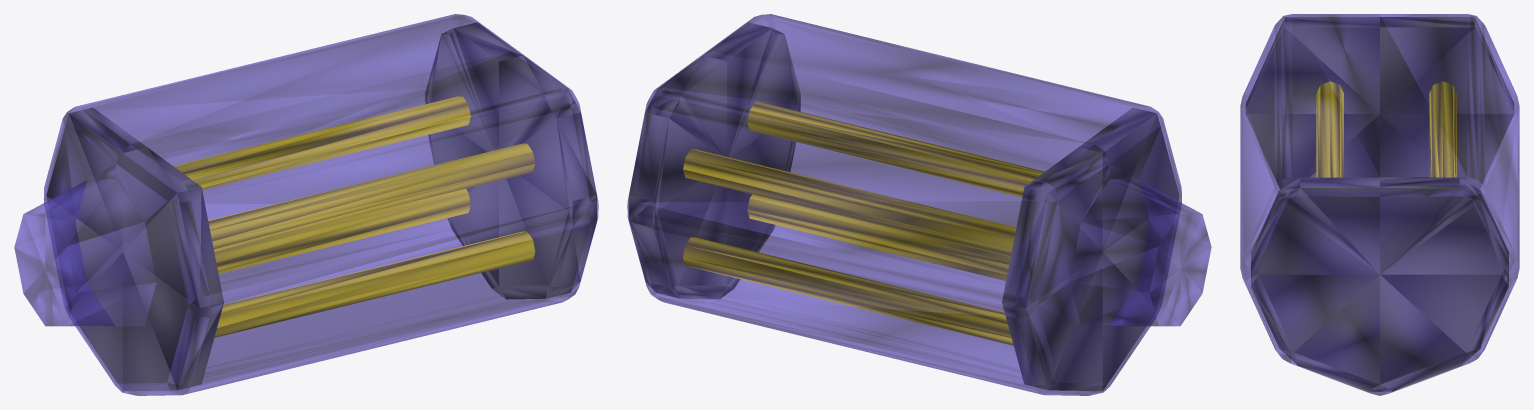
Rendered from destroyable_1x05y1z_changedmats3.fbx.
The picture shows the model from 3 angles, left to right: view 1: azimuth 30°, elevation 25°; view 2: azimuth 150°, elevation 25°; view 3: azimuth 270°, elevation 25°; orthographic projection. The views are drawn at different scales.
Parts seen in each view (by area): view 1: destroyable_1x05y1z; view 2: destroyable_1x05y1z; view 3: destroyable_1x05y1z.
Boxes of the visible parts, x1,y1,x2,y2 form: destroyable_1x05y1z: (14,14,598,395); destroyable_1x05y1z: (627,14,1211,395); destroyable_1x05y1z: (1240,14,1519,395).
Bounding box in the file's own units: 97.5 × 48.29 × 56.03.
